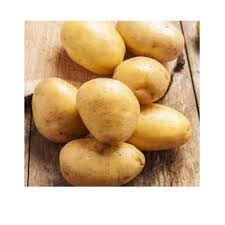potato: (53, 127, 163, 184), (77, 79, 139, 140), (122, 21, 189, 71), (31, 72, 83, 133), (61, 20, 127, 65), (114, 57, 177, 102)
